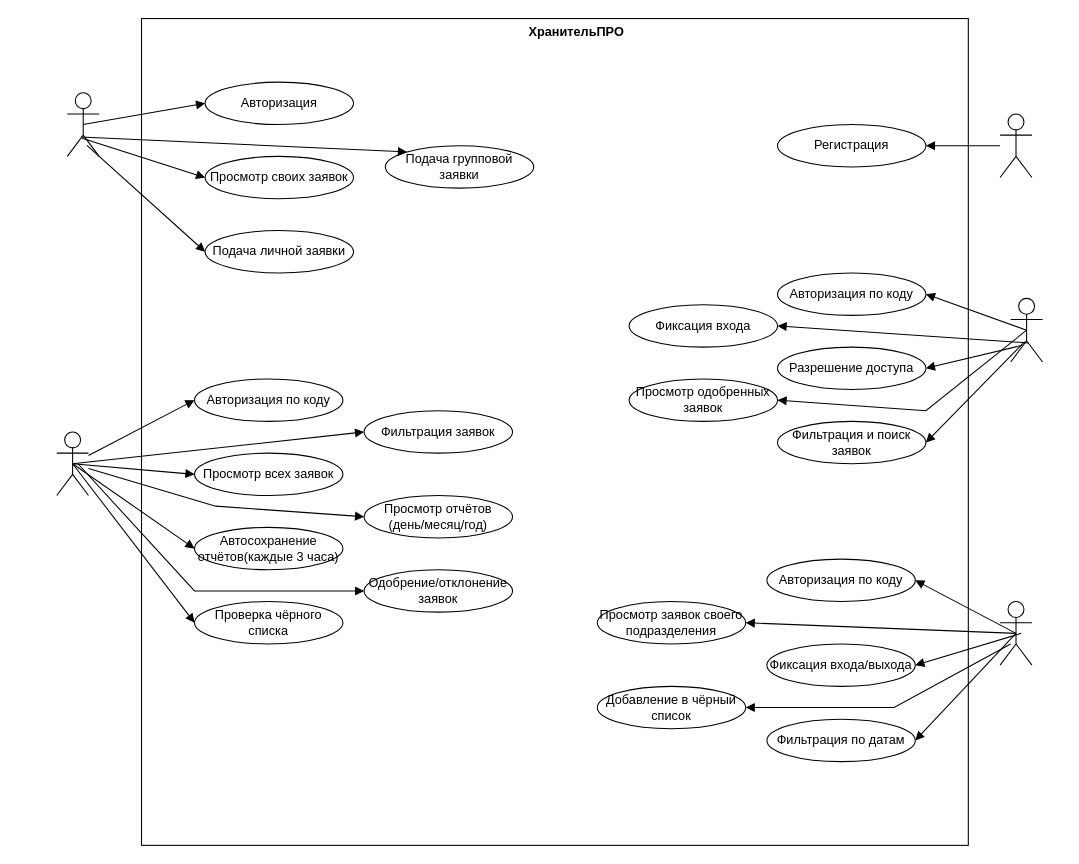
This 1079x864 diagram has some shape labels left out. Each missing label, with the box of its shape:
Авторизованный пользователь: (66, 92, 99, 156)
Гость: (999, 113, 1032, 178)
Сотрудник общего отдела: (56, 431, 89, 496)
Сотрудник охраны: (1010, 297, 1043, 362)
Сотрудник подразделения: (999, 600, 1032, 665)
